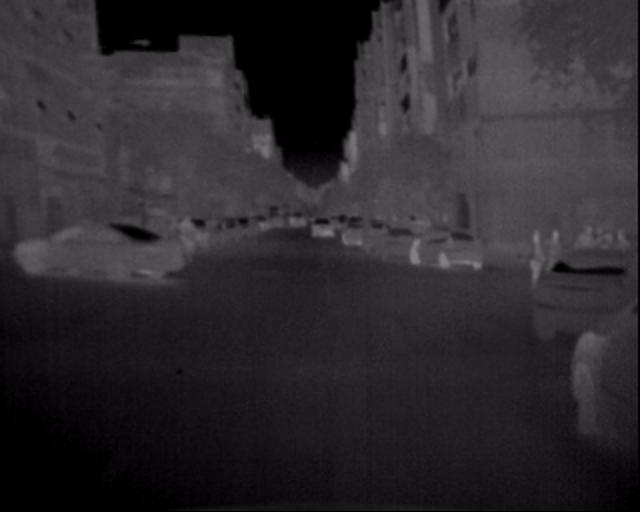person: (543, 221, 579, 283), (522, 218, 551, 294), (178, 208, 201, 266)
